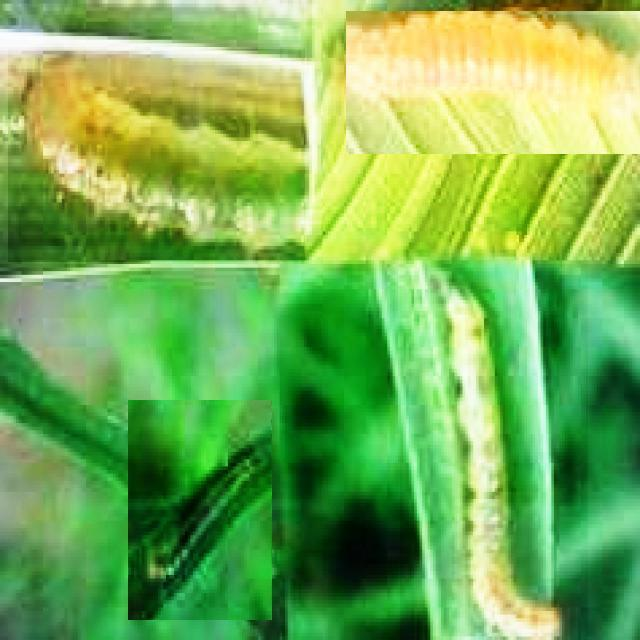leaf-folder: (401, 260, 589, 640), (8, 49, 305, 262), (346, 11, 640, 154), (129, 401, 273, 621)
